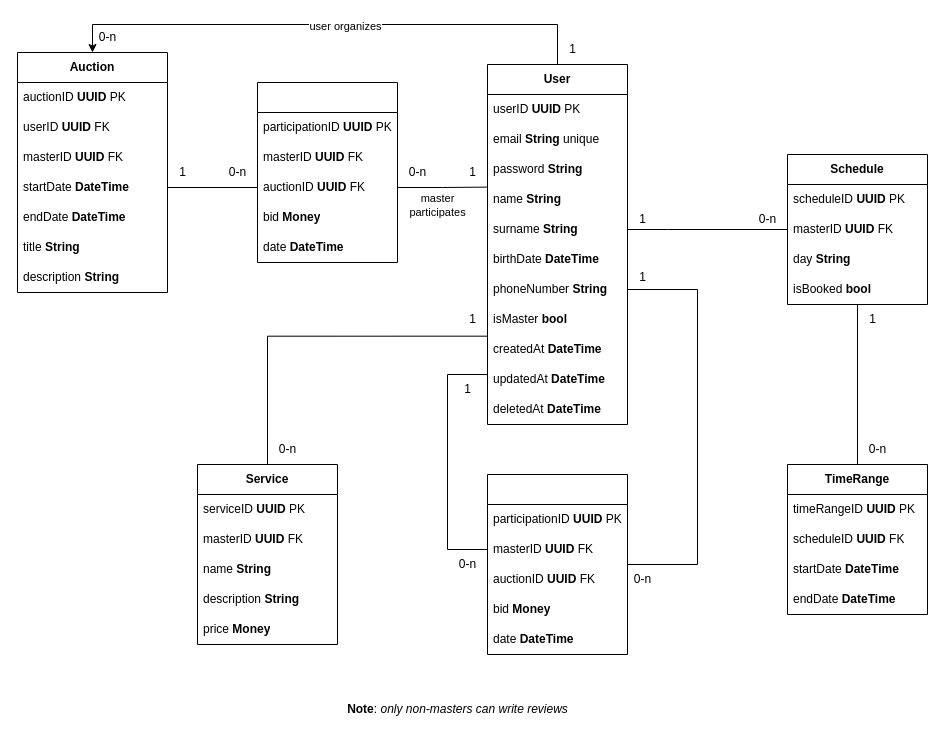
This 945x742 diagram has some shape labels left out. Here are the shapes that lost their labels. From the top down, the box of each, then its label:
(256, 82, 398, 262): AuctionParticipation
(486, 474, 628, 654): Review
